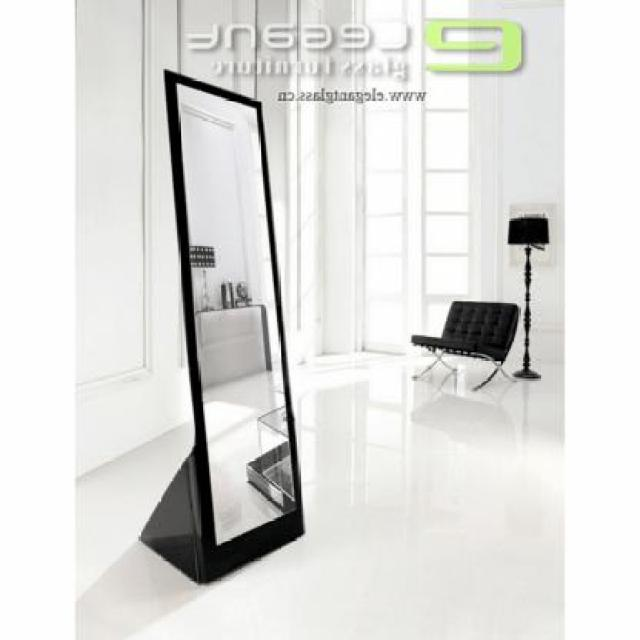floor: (78, 346, 567, 640)
